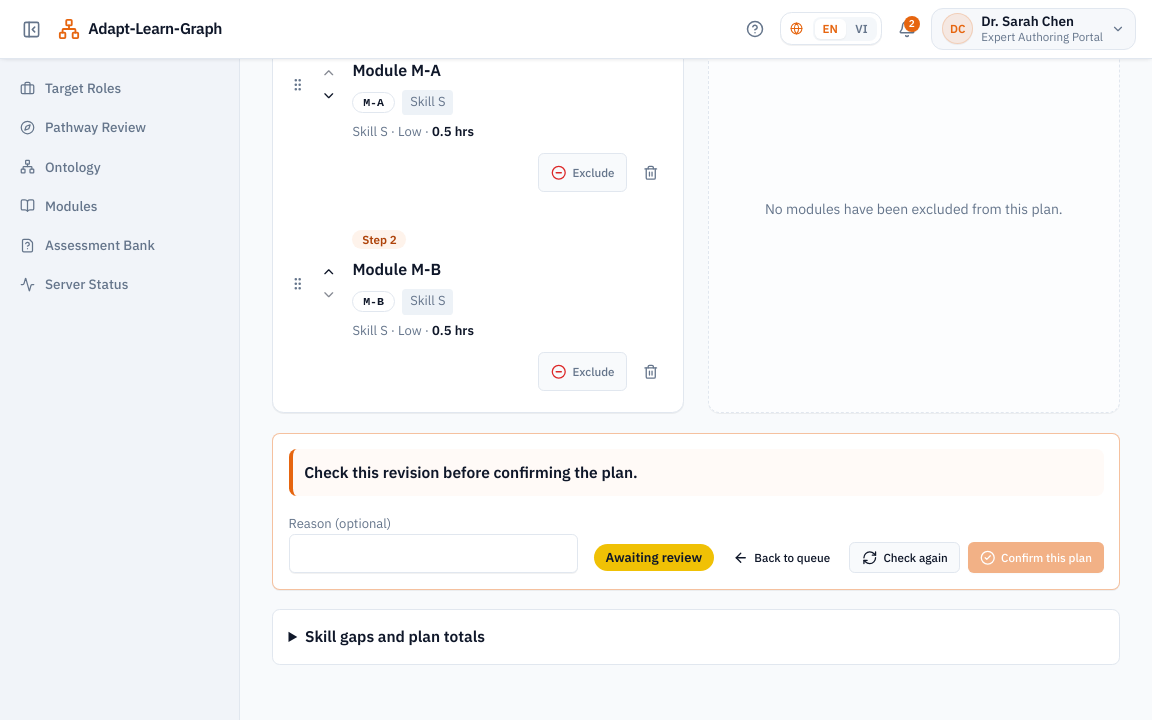
Scenario: REQ-019/020 C3 component: ORG-A assigned Expert, independent fixture › R09 fresh detail drift immediately before preview requires a new review and sends no approval
(page scrolled)
Click the button "Check again" at (905, 558), box [850,542,960,573]
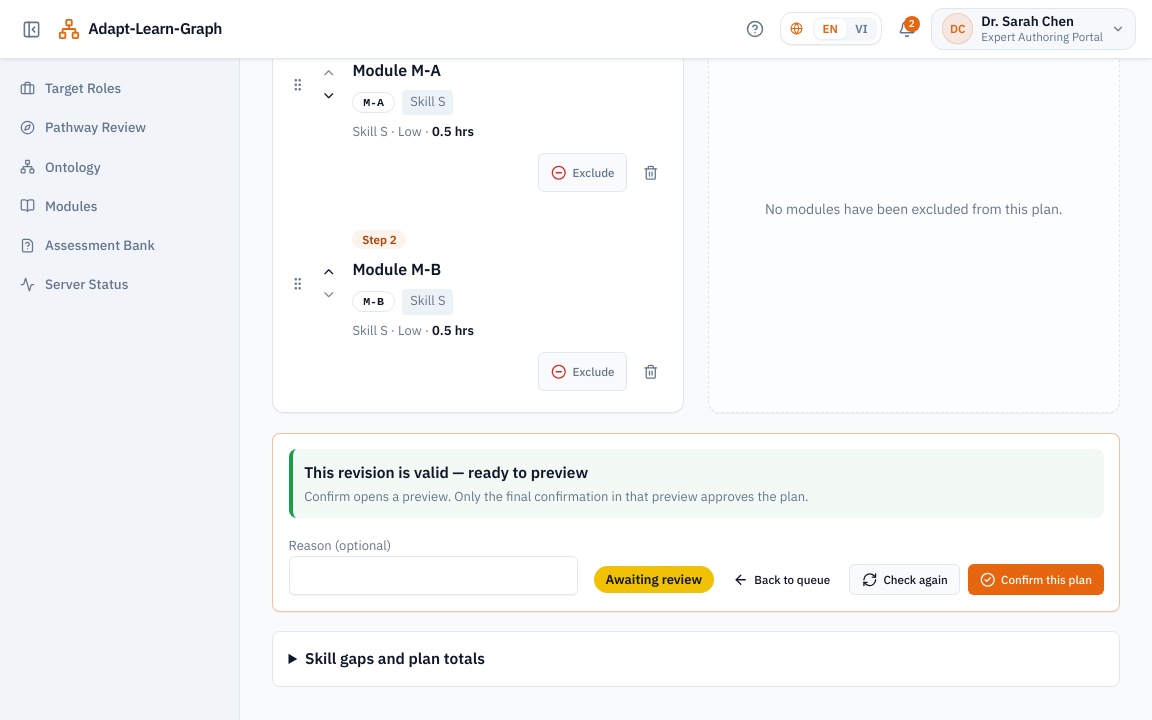
Click the button "Confirm this plan" at (1036, 580), box [968,564,1104,595]
(page scrolled)
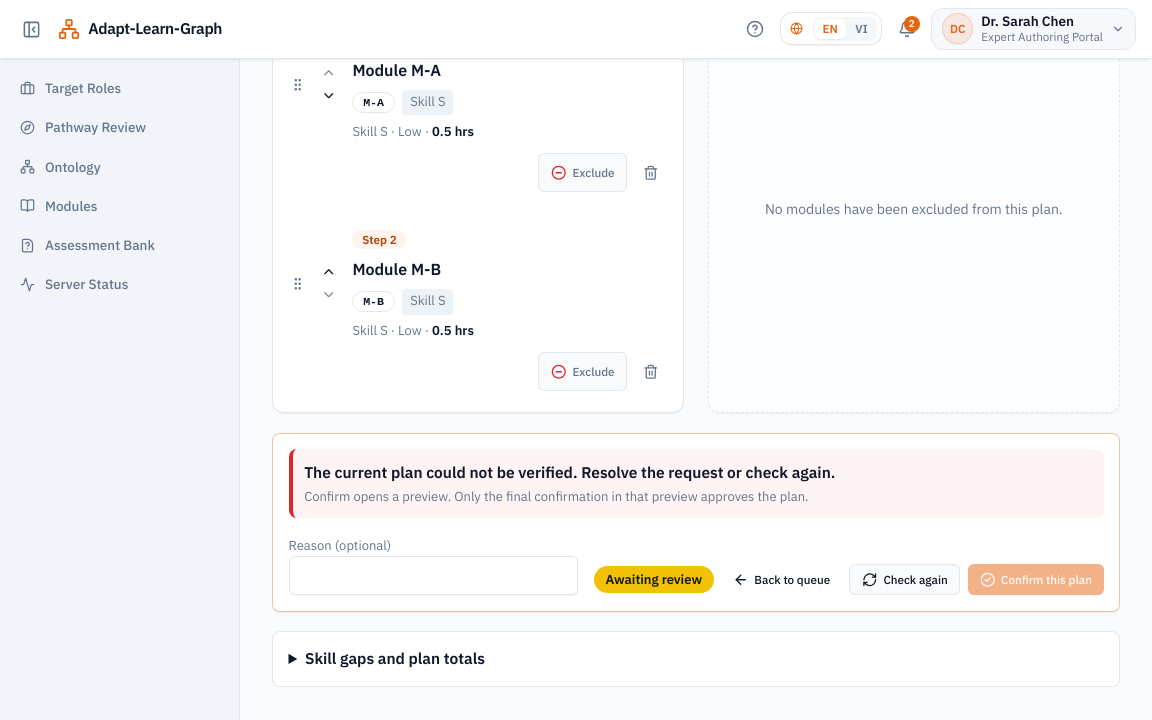
Expected: the button "Confirm this plan" is disabled, [968,564,1104,595]
